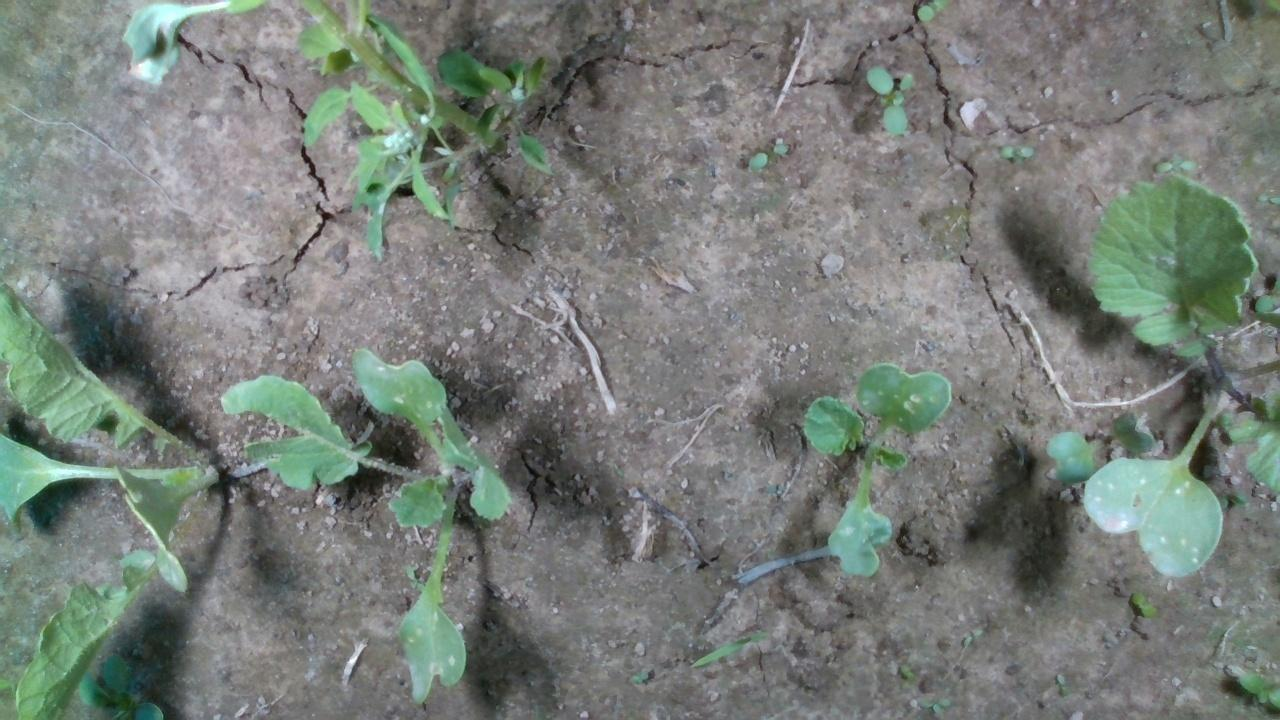weed: (745, 140, 788, 174), (996, 142, 1034, 166), (1128, 590, 1157, 619), (1152, 157, 1198, 172)
